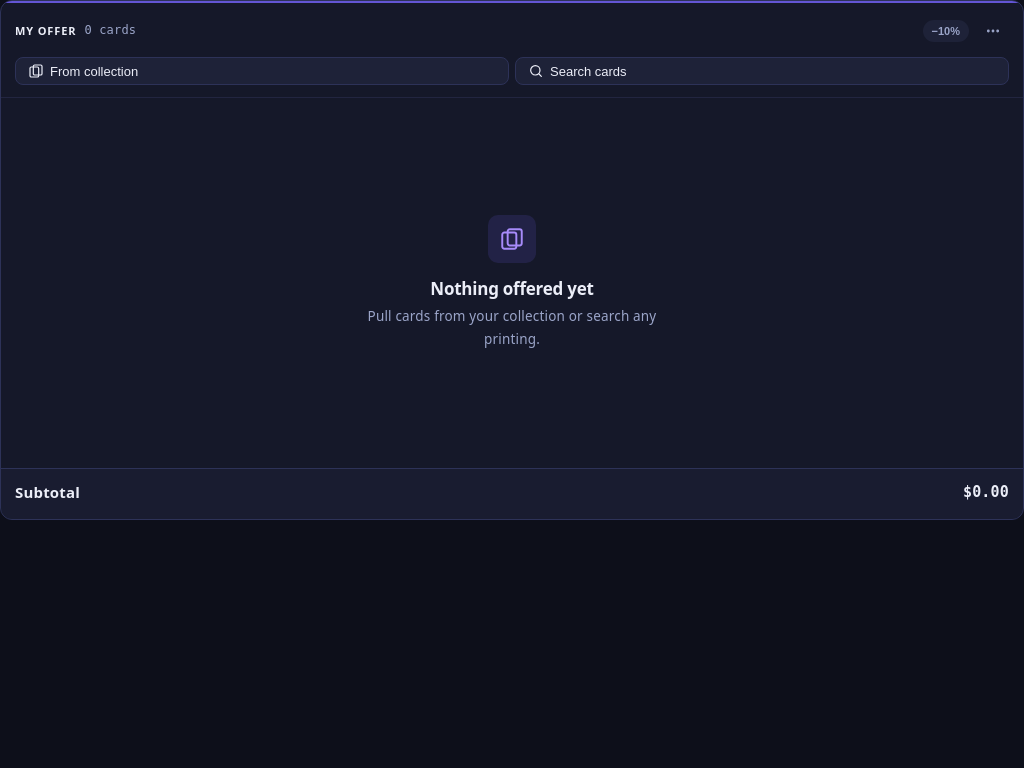
Test case: OfferPanel › side controls › disables bulk condition on an empty side
This screenshot has width=1024, height=768.
Click the button named "My offer options".
click(993, 31)  # box [977,15,1009,47]
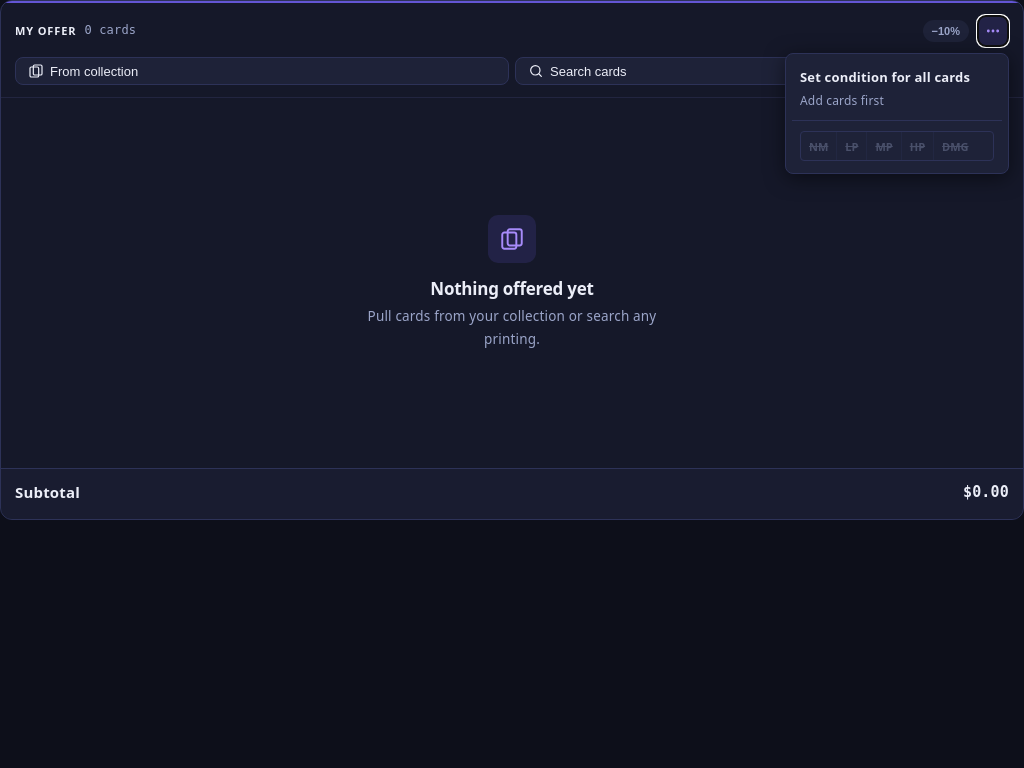
Now the button "NM" is disabled, box [801,132,836,160]
